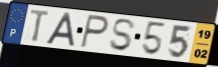5: (140, 21, 169, 56), (166, 23, 194, 59)
A: (44, 12, 76, 48)
P: (79, 13, 111, 50)
S: (108, 18, 138, 53)
T: (29, 8, 52, 43)
